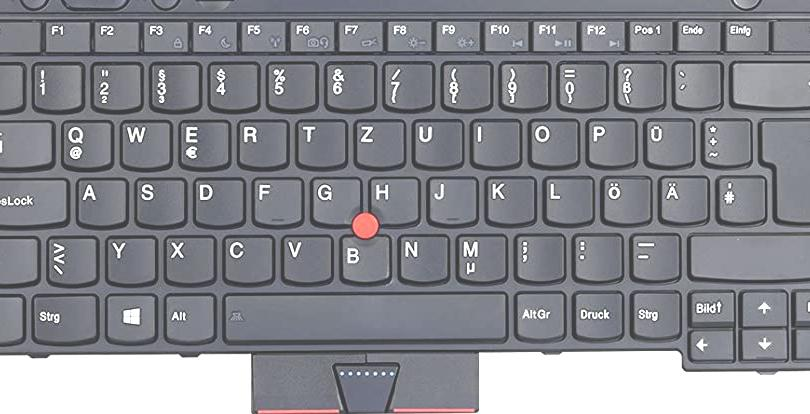0: (555, 60, 607, 109)
1: (31, 61, 82, 110)
2: (89, 61, 141, 111)
3: (147, 62, 199, 110)
4: (207, 61, 258, 110)
5: (264, 60, 316, 110)
6: (322, 61, 375, 110)
7: (382, 60, 433, 110)
8: (439, 61, 492, 110)
9: (497, 60, 549, 110)
a: (75, 176, 127, 226)
accent: (671, 60, 721, 108)
ae: (657, 174, 708, 223)
alt-left: (162, 292, 214, 342)
altgr-right: (513, 290, 566, 339)
b: (337, 232, 391, 282)
c: (220, 233, 274, 284)
caret: (1, 61, 26, 110)
comma: (512, 231, 564, 282)
d: (192, 176, 244, 227)
del: (730, 59, 810, 110)
e: (176, 119, 229, 169)
enter: (760, 116, 810, 225)
f: (250, 176, 302, 226)
g: (309, 175, 360, 226)
h: (366, 175, 419, 224)
hash: (715, 173, 765, 223)
i: (470, 118, 521, 166)
j: (426, 175, 476, 224)
k: (484, 174, 535, 225)
keyboard: (1, 11, 810, 374)
l: (543, 174, 593, 224)
less: (44, 234, 98, 284)
m: (453, 232, 507, 283)
minus: (628, 232, 680, 280)
n: (397, 232, 449, 282)
o: (526, 116, 579, 167)
oe: (599, 174, 651, 225)
p: (584, 117, 636, 167)
plus: (700, 117, 752, 165)
point: (570, 231, 623, 281)
q: (58, 118, 114, 169)
r: (236, 118, 288, 168)
s: (132, 176, 186, 227)
shift-left: (1, 234, 38, 285)
shift-lock: (1, 176, 70, 227)
shift-right: (688, 229, 810, 281)
space: (221, 290, 509, 343)
ss: (613, 60, 665, 109)
strg-left: (28, 292, 98, 343)
strg-right: (628, 289, 681, 339)
t: (295, 118, 347, 168)
tab: (1, 118, 53, 168)
u: (411, 118, 463, 168)
ue: (642, 116, 694, 167)
v: (280, 232, 332, 283)
w: (119, 118, 171, 168)
x: (163, 233, 215, 284)
y: (104, 234, 157, 284)
z: (353, 118, 405, 168)
